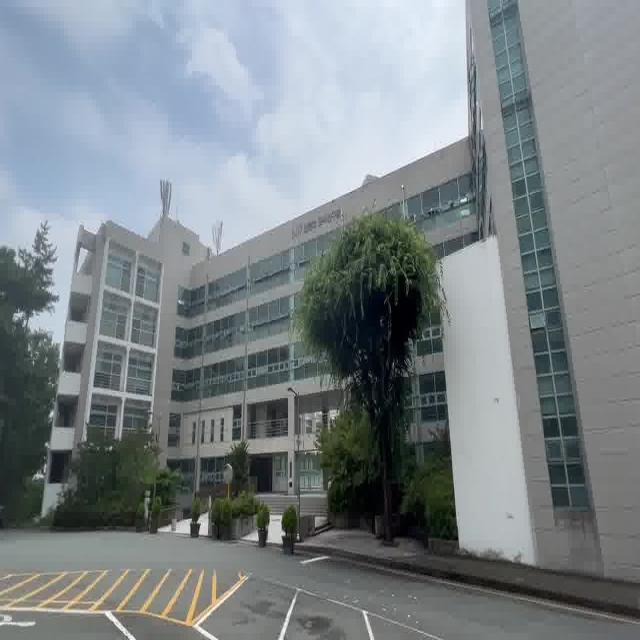building: (67, 180, 304, 443)
